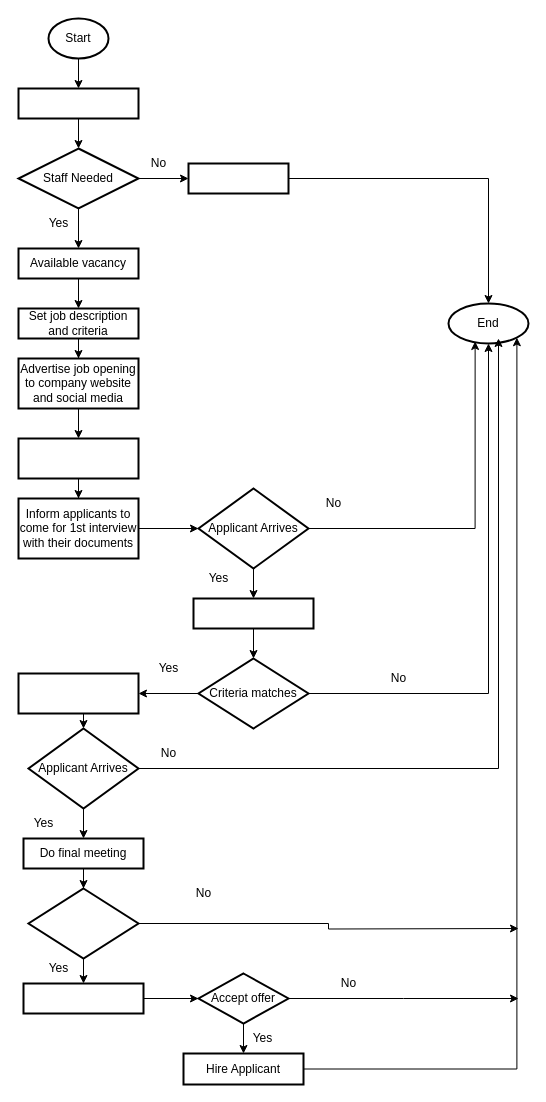
Some shapes in this 546 by 1102 pixel diagram are drawn without their labels. The box of each missing label's shape, as (x1, y1, x2, y2) in pixels:
Collect information of applicants: (17, 437, 139, 479)
Identify need of staff: (17, 87, 139, 119)
No Vacancy: (187, 162, 289, 194)
Offer Job: (22, 982, 144, 1014)
Shortlist for final call: (17, 672, 139, 714)
Suitable for hiring: (27, 887, 139, 959)
Take interview and check documents: (192, 597, 314, 629)
